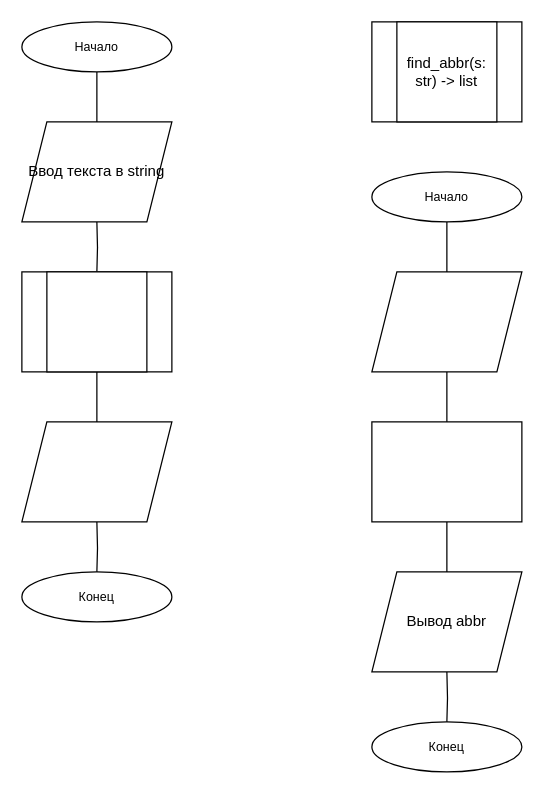
The diagram is 544 pixels wide and 794 high, and some of its shapes have lost their labels. Here are the shapes that lost their labels. From the top down, the centre of each, then its label:
the point at 96,321: res = find_abbr( string)
the point at 446,321: Получаем строку s
the point at 96,471: Вывод *res
the point at 446,471: Ищем все аббревиатуры регуляркой и сохраняем в abbr
